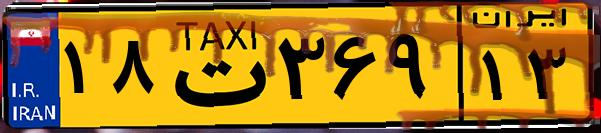1: (57, 26, 110, 100), (475, 38, 525, 113)
3: (270, 28, 330, 110), (525, 38, 570, 115)
6: (330, 28, 385, 110)
8: (110, 28, 158, 98)
9: (385, 28, 445, 110)
ت: (158, 12, 270, 120)
